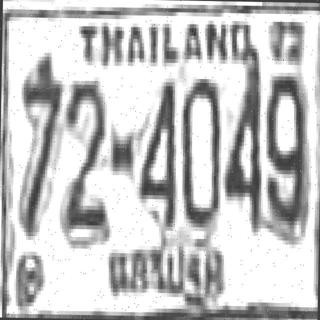N00: (179, 74, 220, 224)
N02: (58, 76, 108, 241)
N04: (222, 72, 261, 228), (136, 78, 175, 223)
N09: (264, 72, 307, 233)
P28: (104, 240, 231, 315)
